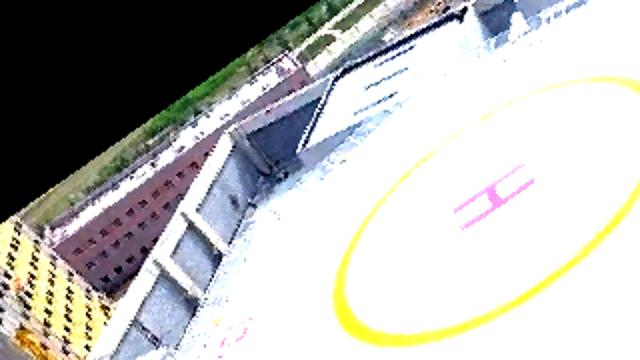Apron: (320, 65, 640, 350)
